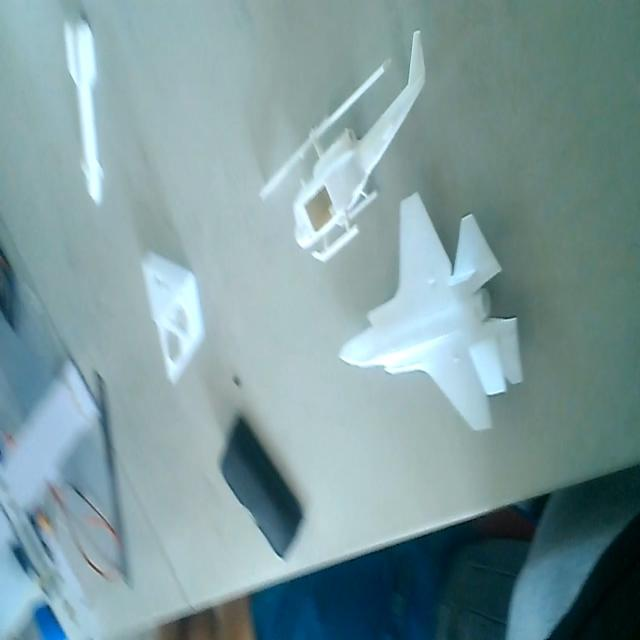Helicopter: (248, 32, 428, 262)
Jet: (334, 188, 524, 434)
Rocket: (62, 19, 106, 208)
